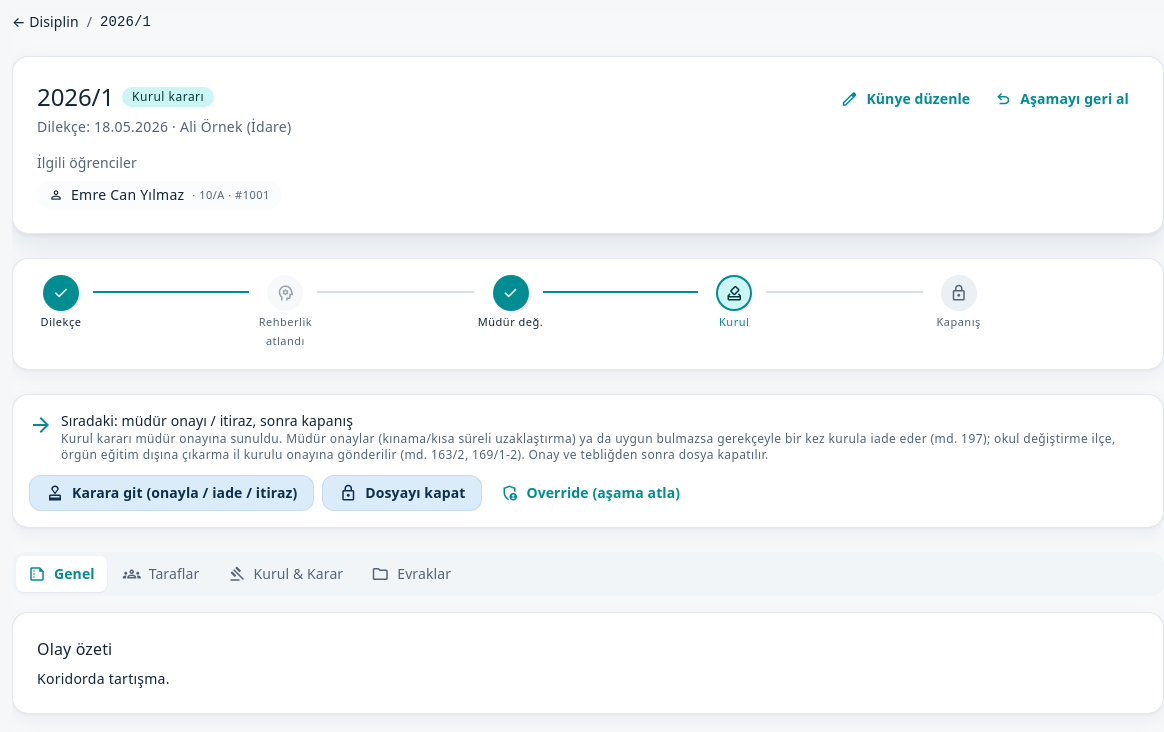
Test: DisiplinDetayPage — gerekçe metinleri gerçeğe hizalı (bulgu #11) › erken kapatma: AccessLog/STATE_MACHINE_OVERRIDE vaadi yok
Expected: the text "İlgili öğrenciler" is shown, [37, 153, 137, 172]
What coordinates should you click on to do the following:
click the button "Dosyayı kapat"
I would click on:
 (402, 493)
Its box is [322, 475, 482, 511].
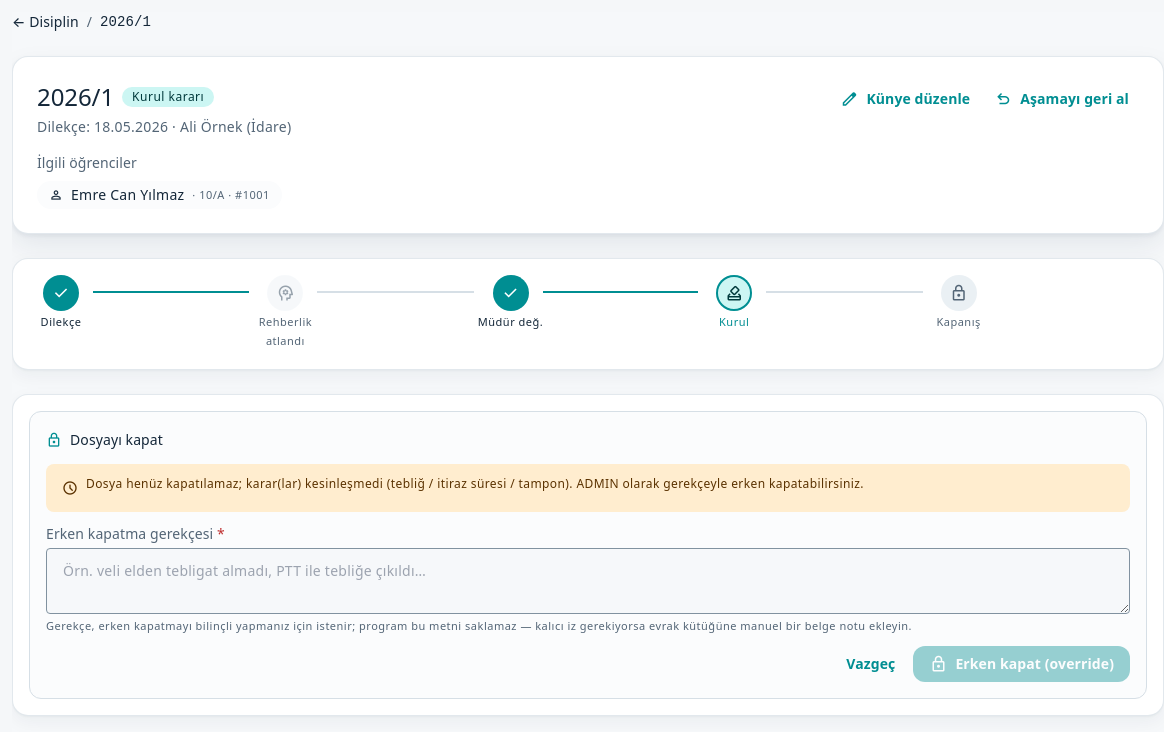
Expected: the text box labelled "Erken kapatma gerekçesi *" is shown, [46, 548, 1130, 614]
Expected: the text "bu metni saklamaz" is shown, [46, 618, 912, 633]
